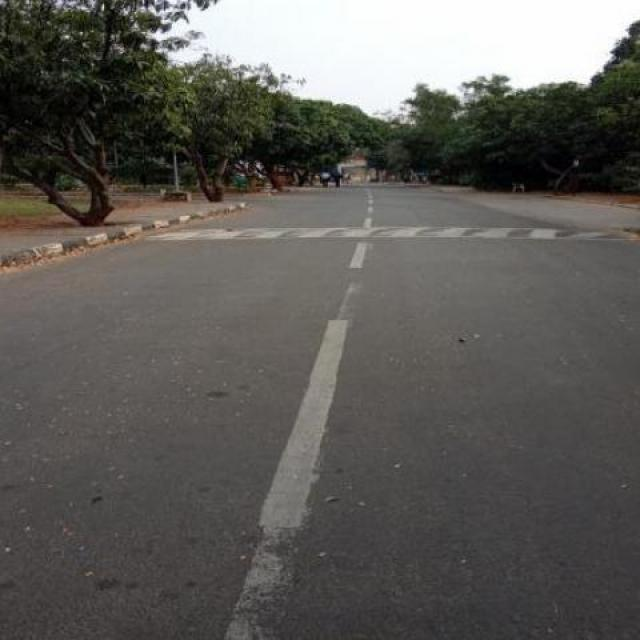Speed Bump: (159, 224, 638, 239)
